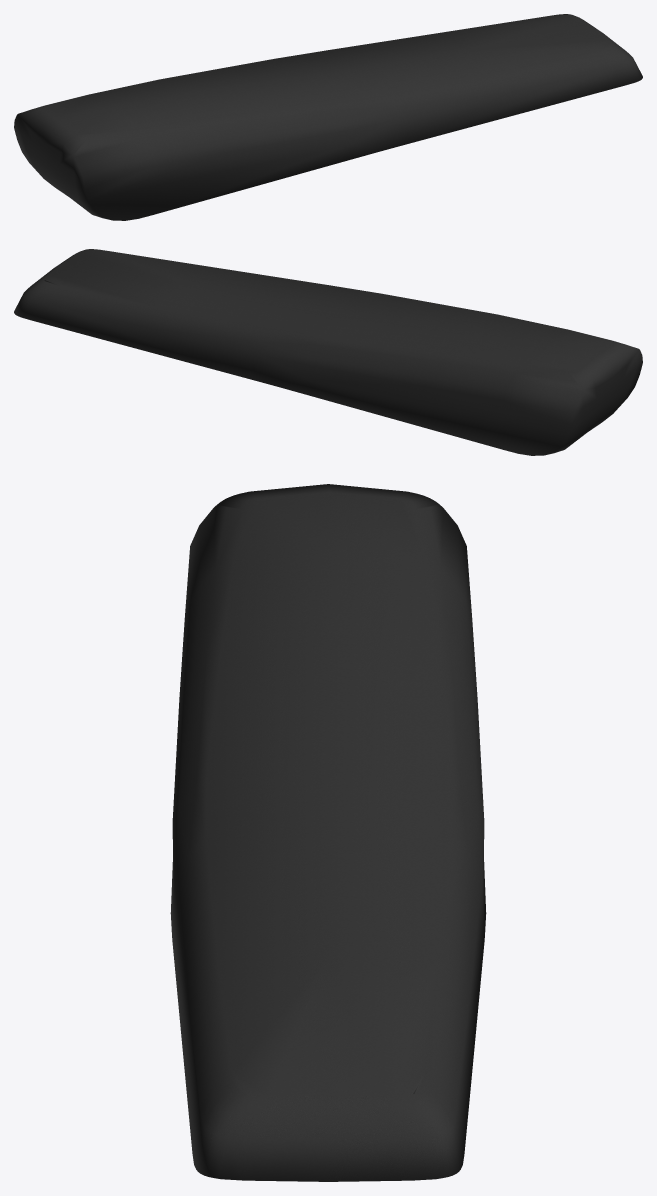
Rendered from Streetlight_11_Mini.glb.
3 renders of one model, top to bottom at view 1: azimuth 30°, elevation 25°; view 2: azimuth 150°, elevation 25°; view 3: azimuth 270°, elevation 25°, orthographic. The views are drawn at different scales.
Parts seen in each view (by area): view 1: Siteco SL 11 mini; view 2: Siteco SL 11 mini; view 3: Siteco SL 11 mini.
Boxes of the visible parts, x1,y1,x2,y2 form: Siteco SL 11 mini: (14, 14, 642, 220); Siteco SL 11 mini: (14, 249, 642, 455); Siteco SL 11 mini: (170, 484, 486, 1181).
Bounding box in the file's own units: 0.7338 × 0.1168 × 0.1744.
3 materials, 2 textured.
